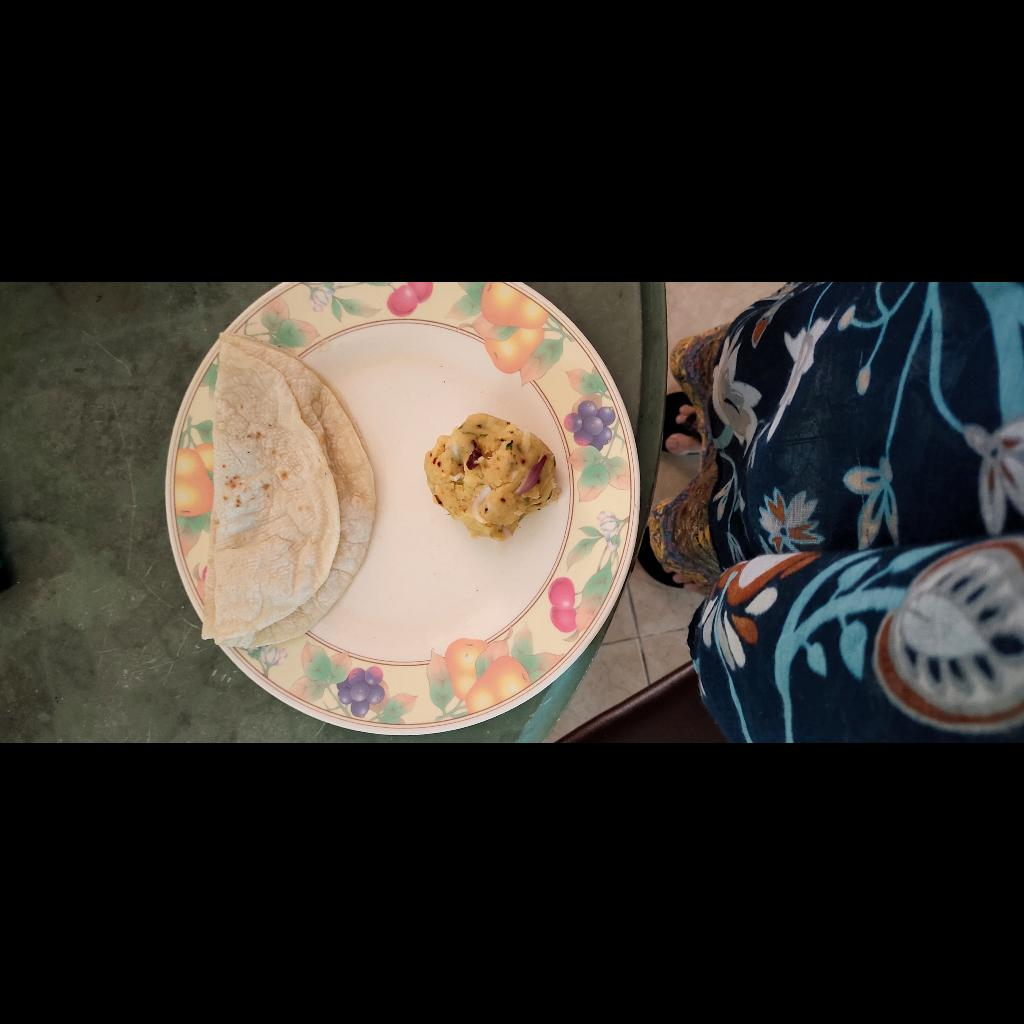potato-mashed: (205, 703, 331, 840)
ruti: (95, 480, 413, 657)
